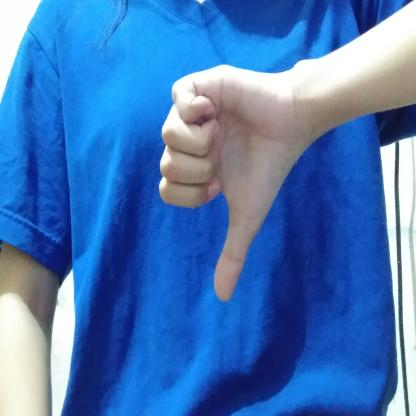no: (155, 62, 300, 312)
